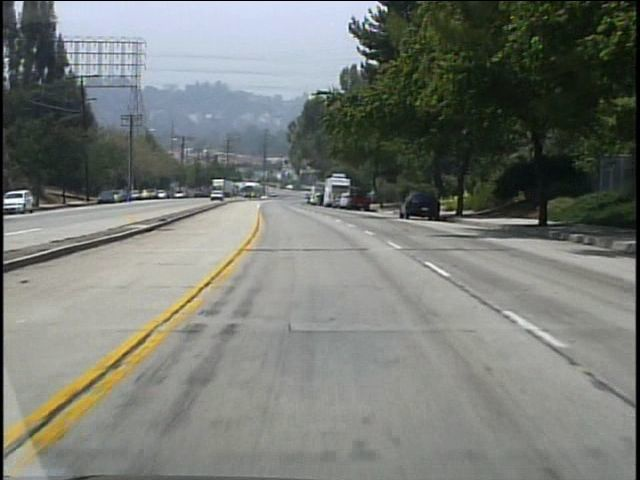person: (366, 184, 377, 208)
